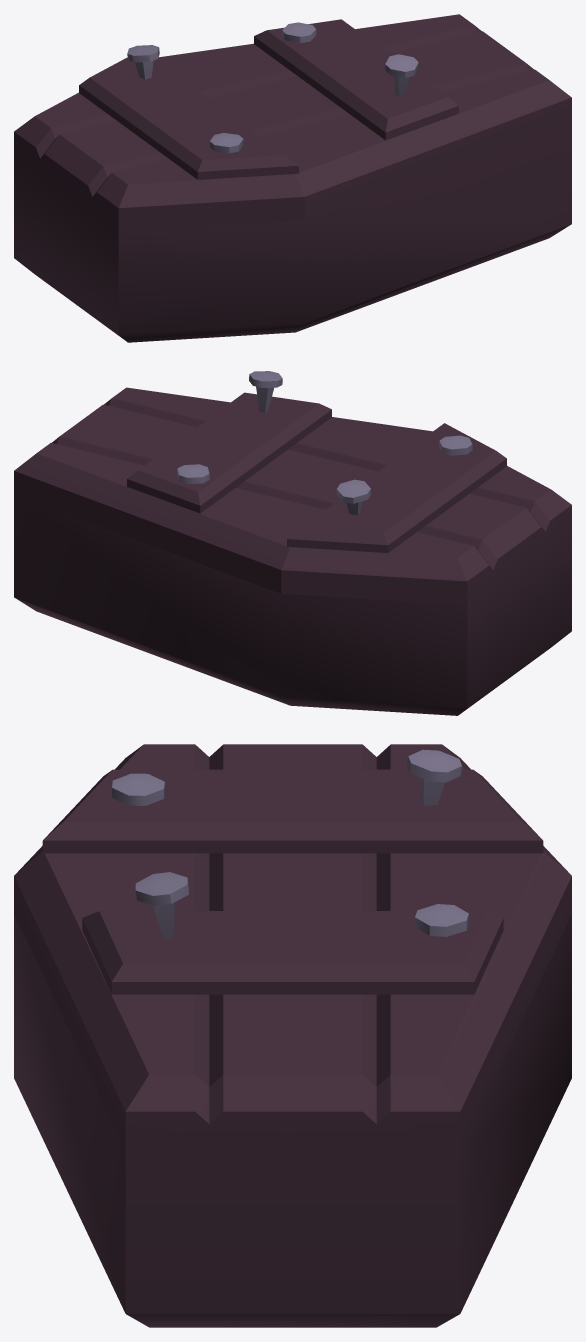
The model's file is decor_2.fbx.
3 views of the same model, one above another, from view 1: azimuth 30°, elevation 25°; view 2: azimuth 150°, elevation 25°; view 3: azimuth 270°, elevation 25° (orthographic). The views are drawn at different scales.
Parts seen in each view (by area): view 1: decor_2; view 2: decor_2; view 3: decor_2.
Boxes of the visible parts, x1=… form: decor_2: x1=14, y1=14, x2=571, y2=342; decor_2: x1=14, y1=371, x2=571, y2=715; decor_2: x1=14, y1=744, x2=571, y2=1327.
Bounding box in the file's own units: 1.86 × 0.8199 × 1.24.
